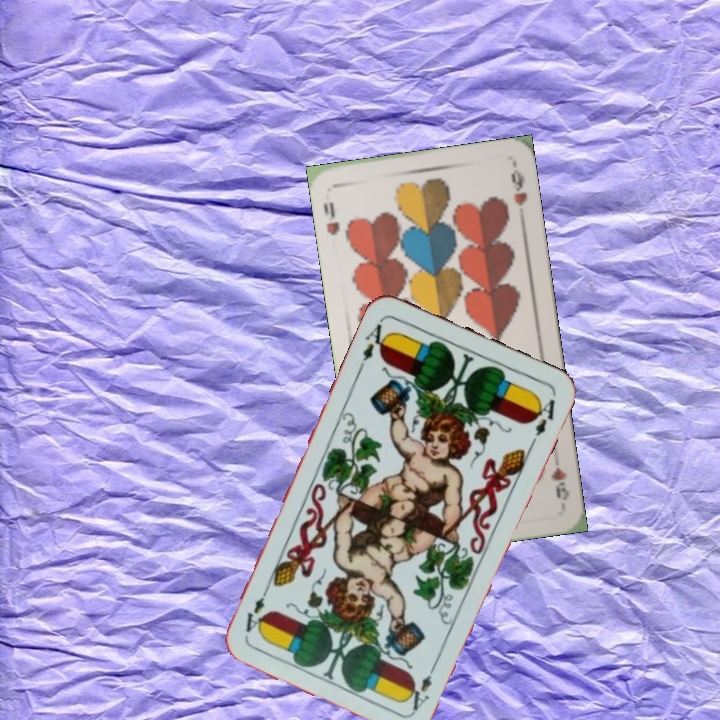EA: (354, 316, 394, 372), (402, 658, 440, 714)
H9: (546, 464, 572, 503), (319, 198, 343, 238)
